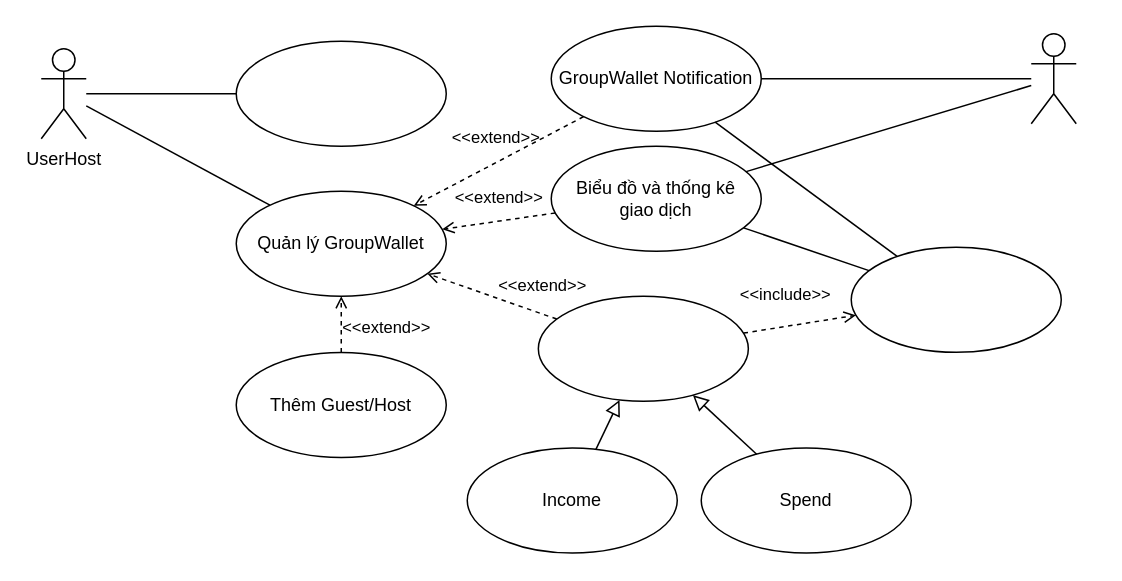
This 1122x581 diagram has some shape labels left out. The shapes that lost their labels are listed below. From the top down, each one's box as (x1, y1, x2, y2) in pixels, then its label:
(235, 40, 446, 146): Tạo GroupWallet
(1030, 32, 1076, 124): UserGuest
(850, 246, 1061, 352): Cập nhật
(537, 295, 748, 401): Thêm giao dịch
